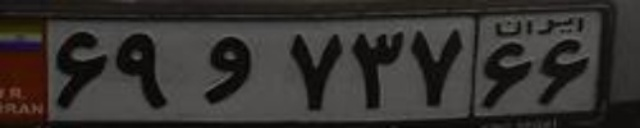3: (351, 32, 405, 108)
6: (54, 30, 108, 109), (480, 40, 533, 106), (540, 39, 590, 105)
7: (285, 31, 340, 112), (410, 31, 463, 108)
9: (114, 32, 168, 109)
vav: (199, 36, 255, 105)
